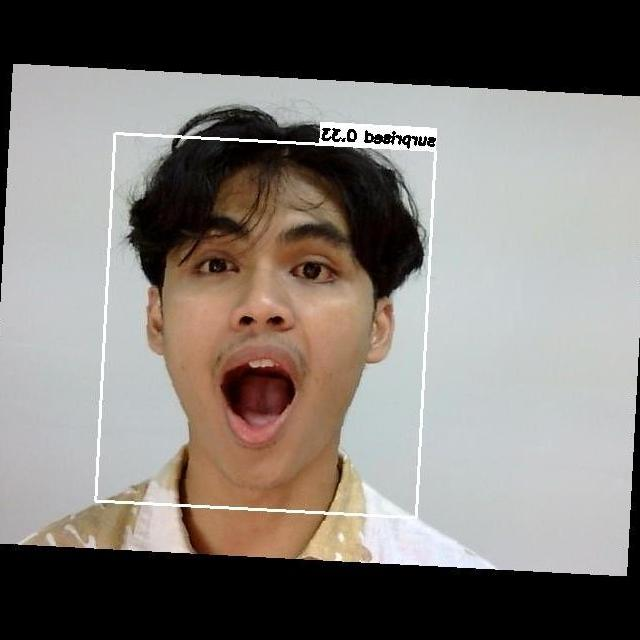Surprised: (165, 195, 382, 458)
